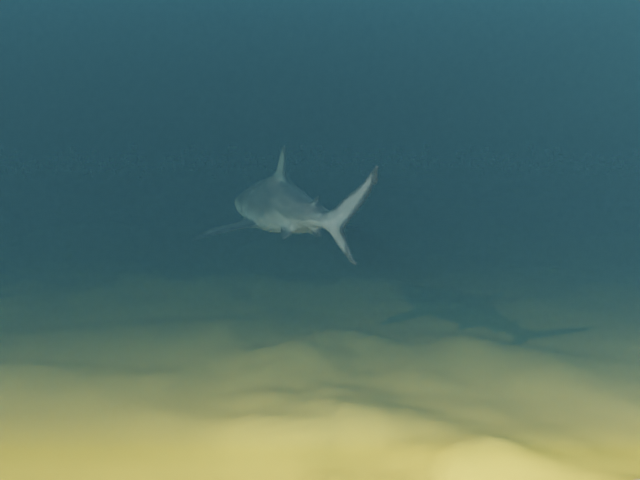Carribean Shark.001: (192, 144, 378, 264)
